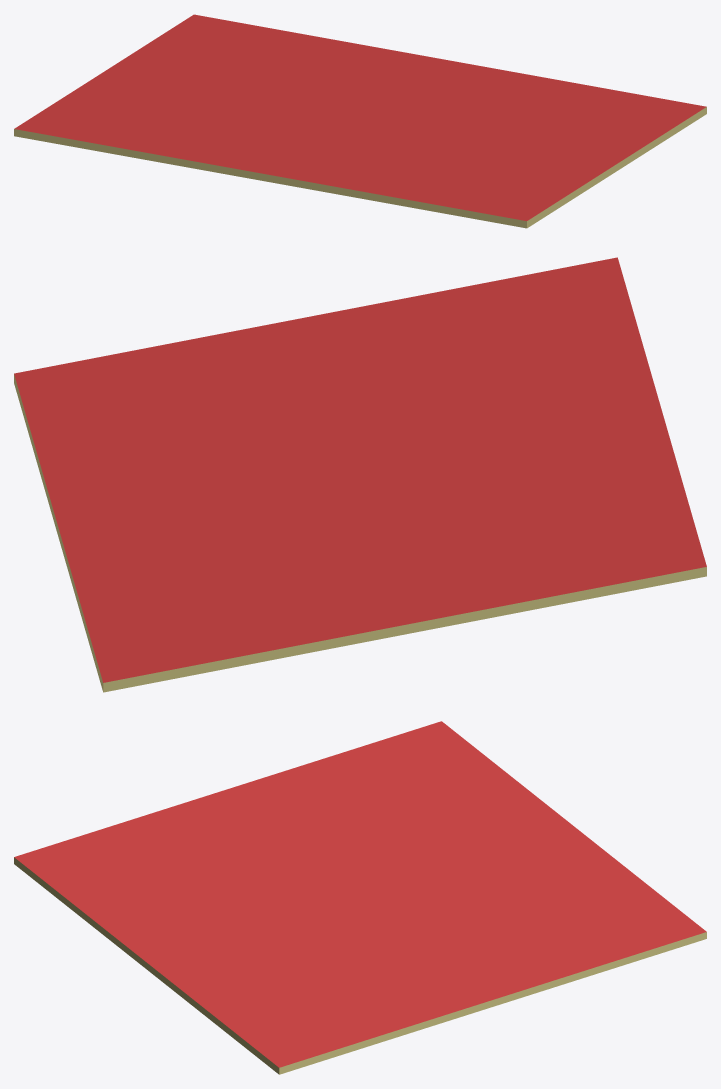
3 views of the same model, one above another, from view 1: azimuth 30°, elevation 25°; view 2: azimuth 150°, elevation 25°; view 3: azimuth 270°, elevation 25° (orthographic). The views are drawn at different scales.
Bounding box in the file's own units: 8.76 × 9.01 × 0.985.
